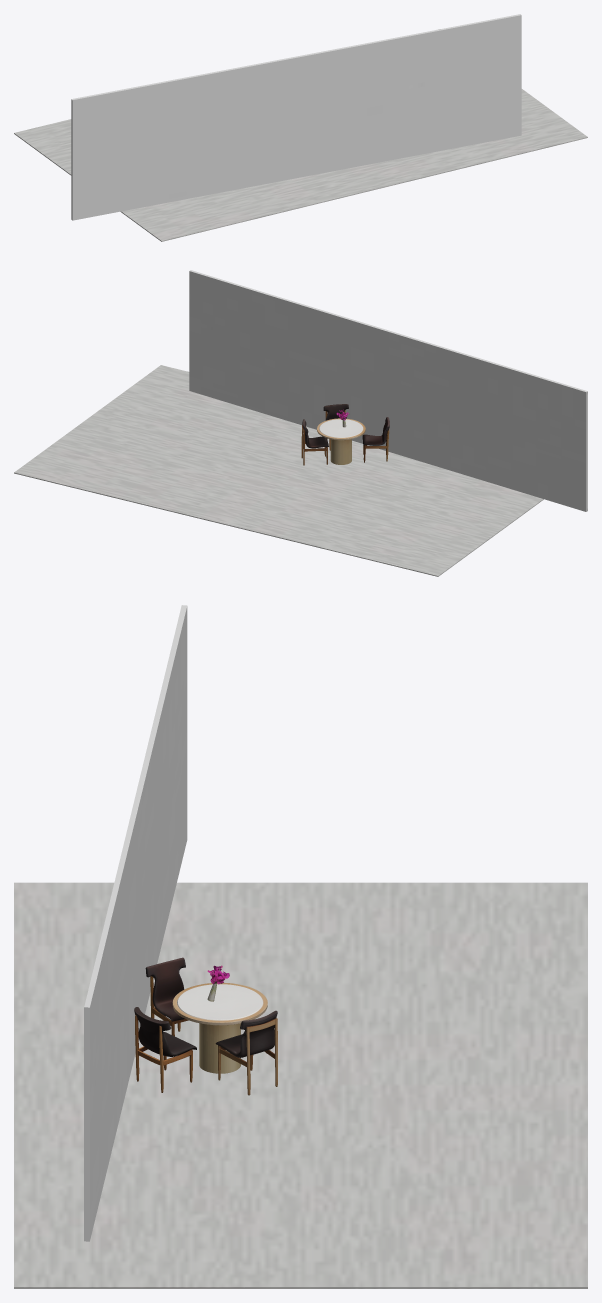
File: ours.glb
The picture shows the model from 3 angles, top to bottom: view 1: azimuth 30°, elevation 25°; view 2: azimuth 150°, elevation 25°; view 3: azimuth 270°, elevation 25°; orthographic projection. The views are drawn at different scales.
Parts seen in each view (by area): view 1: wall_0, floor_0; view 2: floor_0, wall_0, obj_table_0, obj_chair_0, obj_chair_2; view 3: floor_0, wall_0, obj_table_0, obj_chair_0, obj_chair_1, obj_chair_2.
Boxes of the visible parts, bbox=[...] form: wall_0: bbox=[71, 14, 521, 220]; floor_0: bbox=[14, 29, 587, 241]; floor_0: bbox=[14, 365, 543, 576]; wall_0: bbox=[189, 270, 587, 511]; obj_table_0: bbox=[317, 418, 365, 464]; obj_chair_0: bbox=[301, 419, 328, 465]; obj_chair_2: bbox=[362, 417, 389, 462]; floor_0: bbox=[14, 882, 587, 1288]; wall_0: bbox=[84, 605, 187, 1241]; obj_table_0: bbox=[172, 982, 267, 1073]; obj_chair_0: bbox=[215, 1010, 277, 1095]; obj_chair_1: bbox=[134, 1007, 196, 1092]; obj_chair_2: bbox=[145, 957, 188, 1036].
Size of the model in its own units: 11.08 by 2.72 by 6.
Materials: 7 (7 with a texture image).
